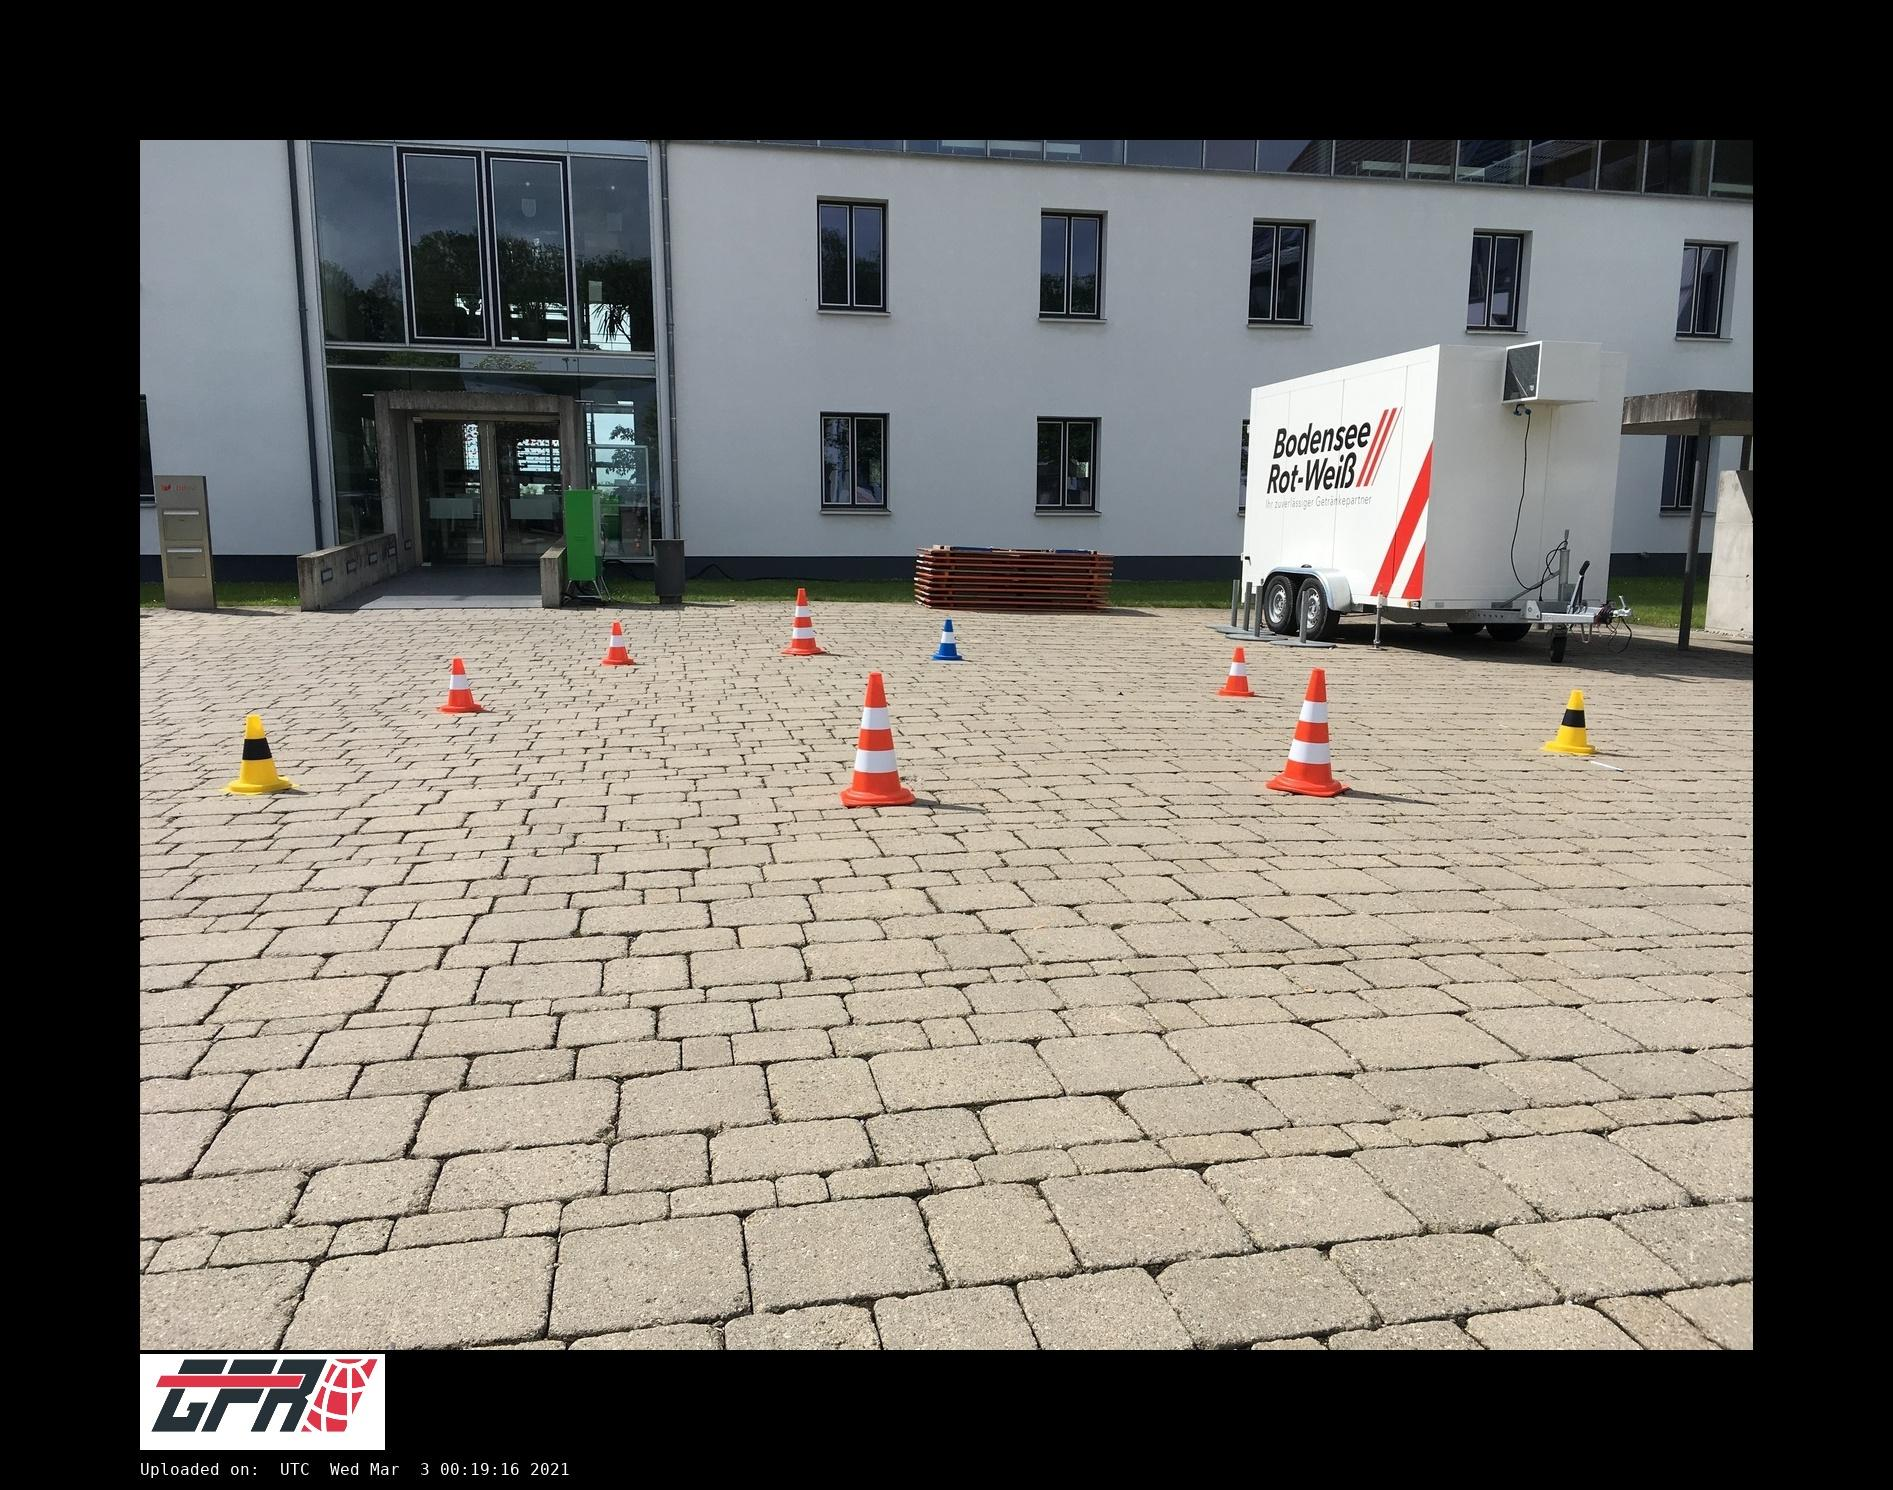blue_cone: (933, 619, 962, 661)
large_orange_cone: (1268, 668, 1348, 797), (844, 674, 914, 806), (784, 588, 827, 656)
orange_cone: (438, 657, 484, 713), (1218, 647, 1255, 697), (602, 622, 636, 665)
yellow_cone: (220, 714, 295, 796), (1541, 690, 1595, 756)
